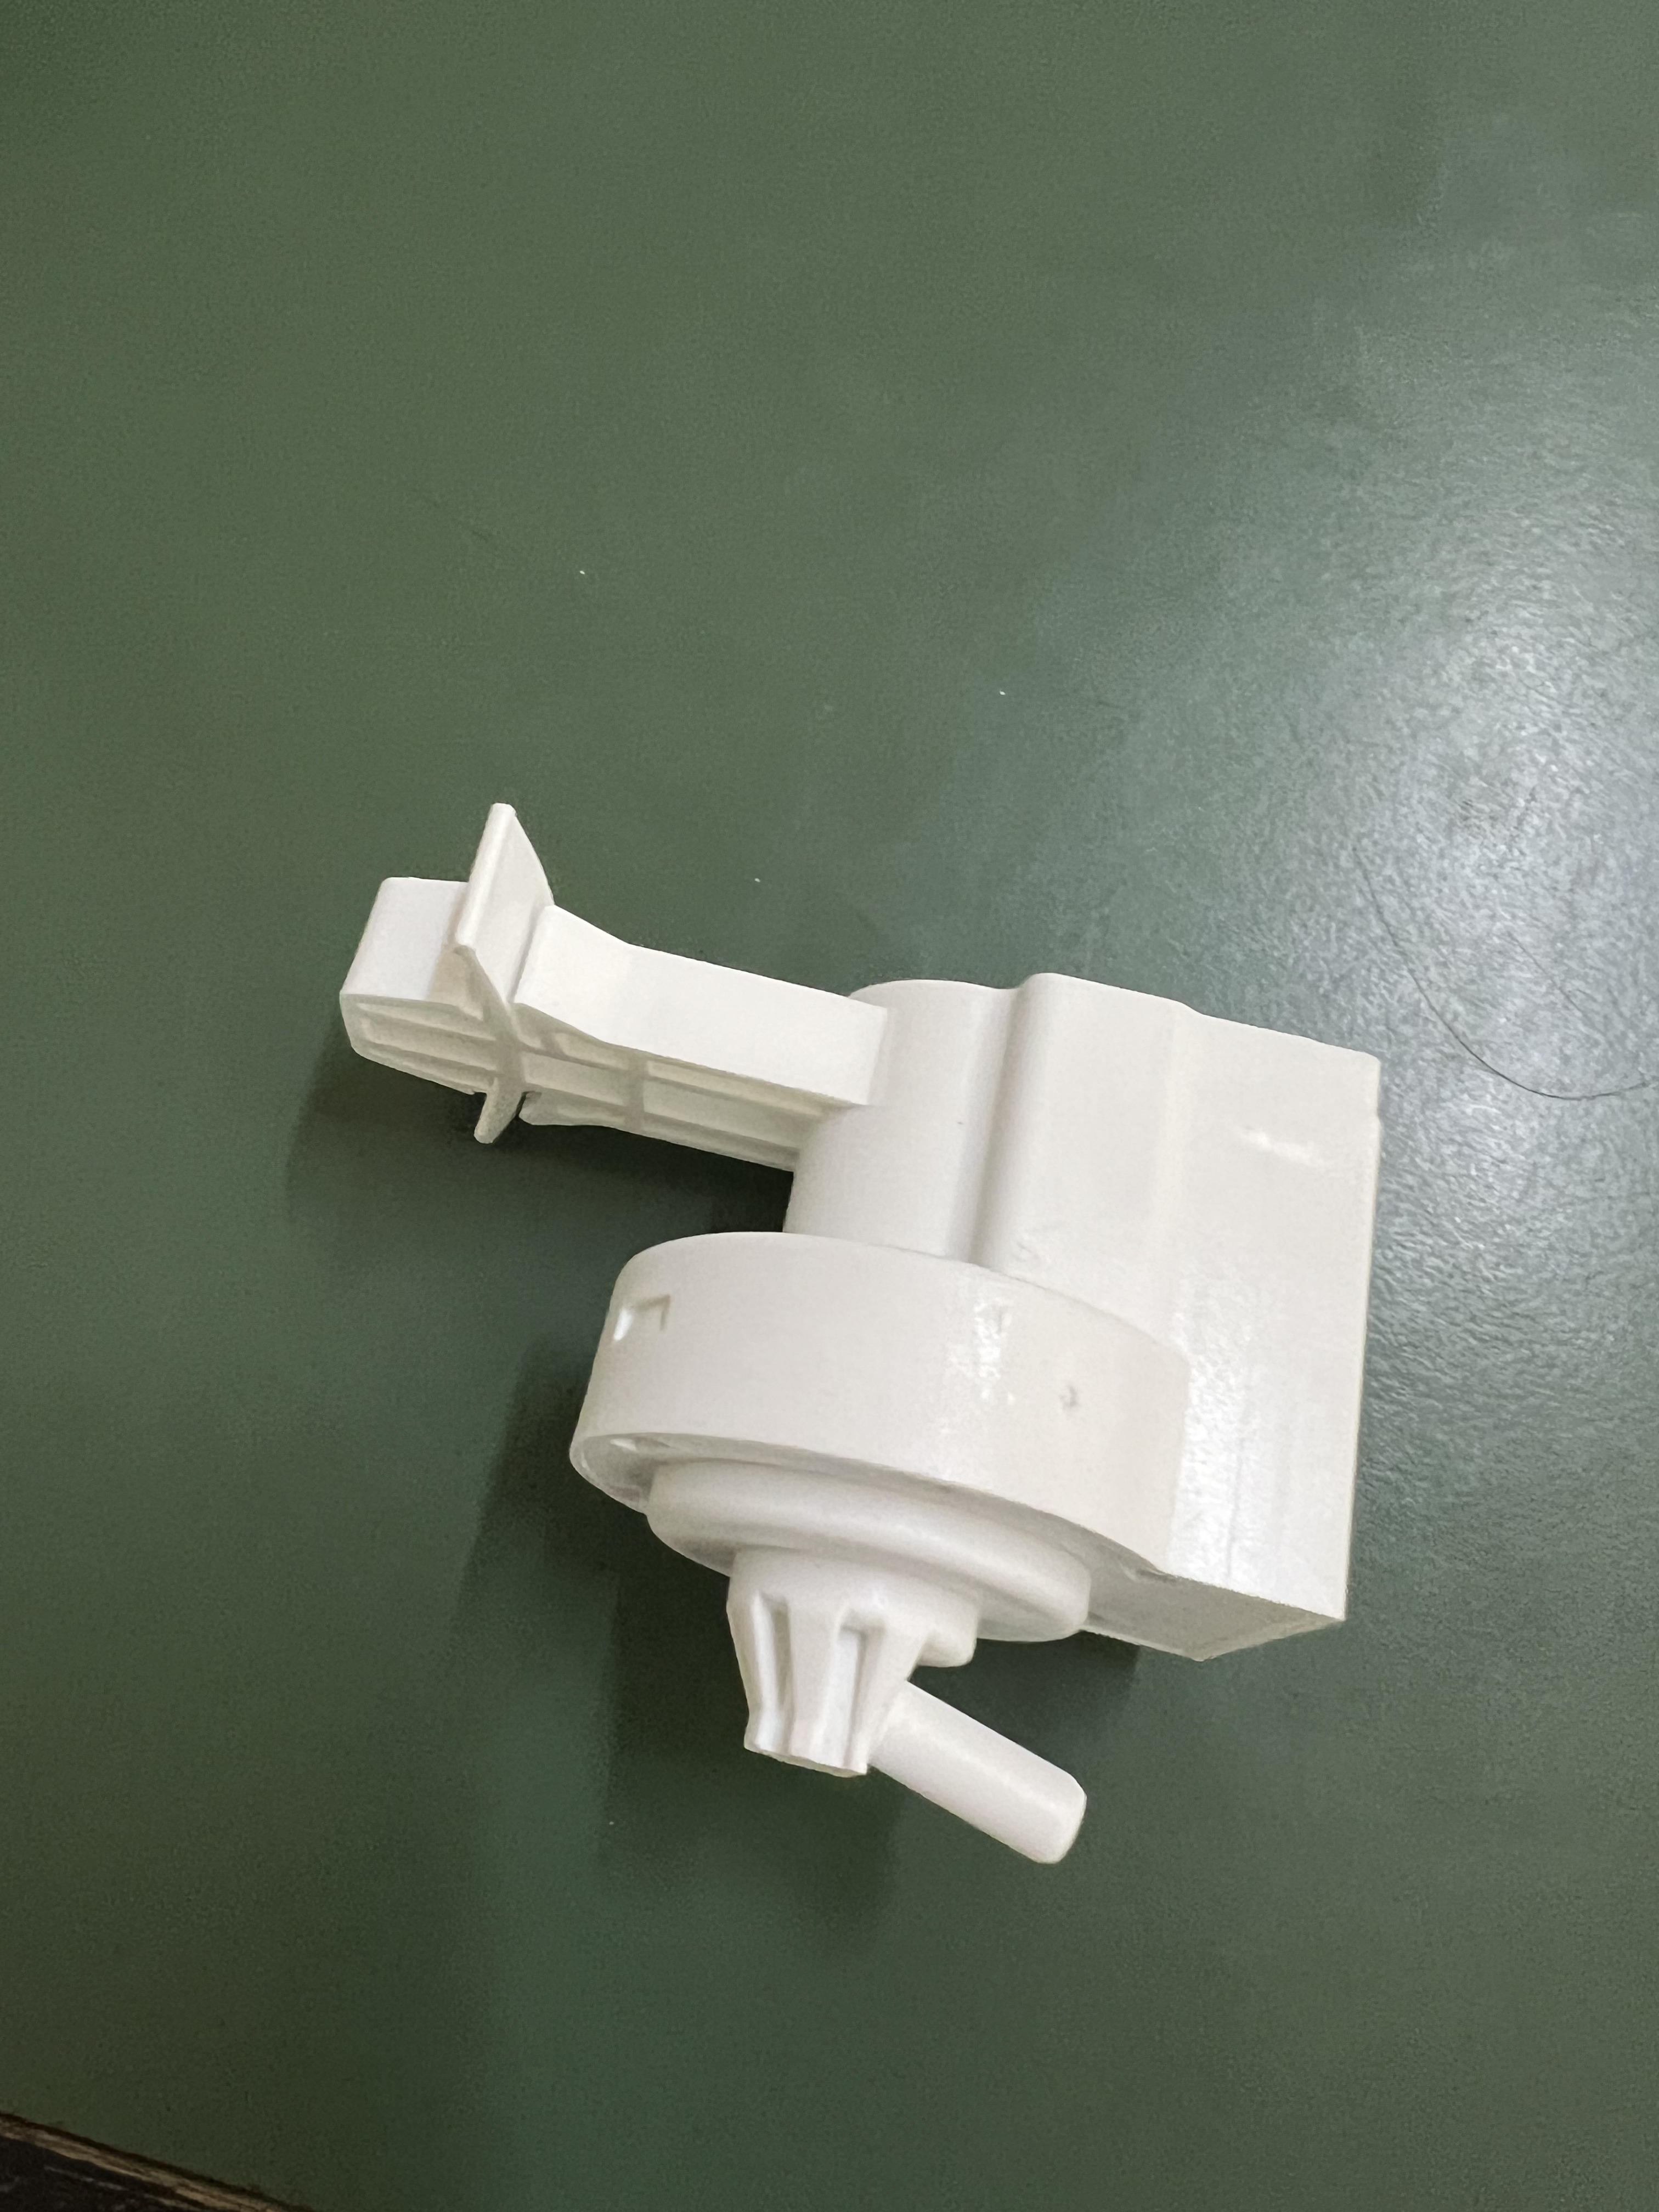pressure_switch_1: (321, 782, 1413, 1916)
